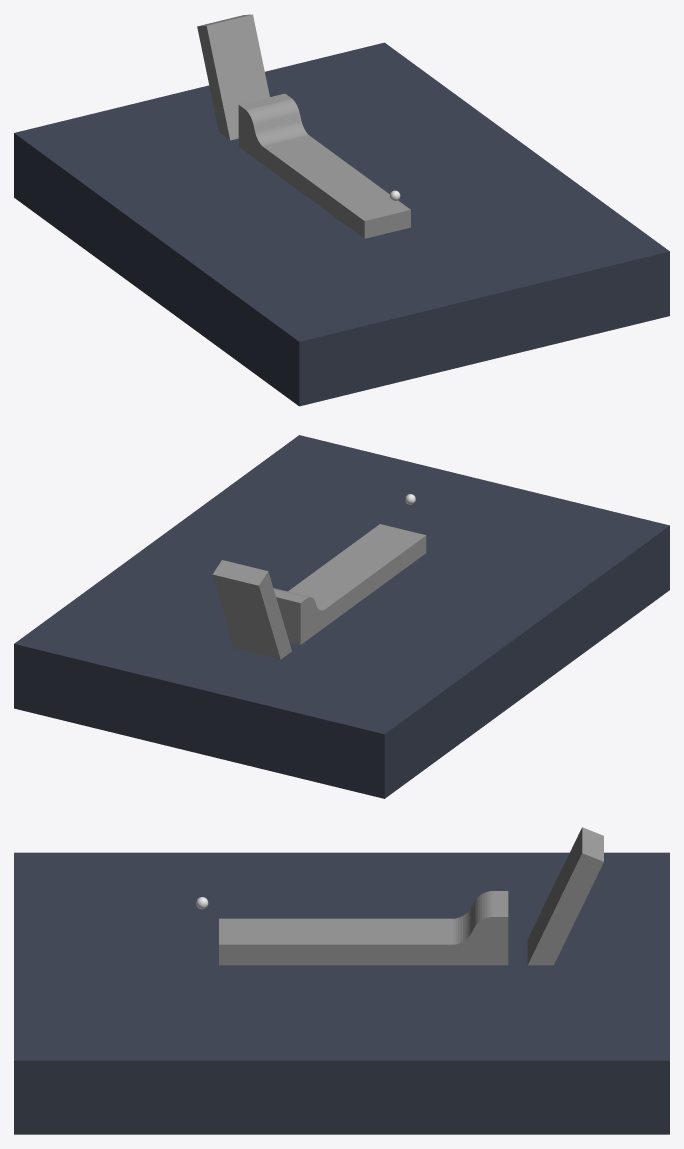
File: SkeeRamps3.glb
3 renders of one model, top to bottom at view 1: azimuth 30°, elevation 25°; view 2: azimuth 150°, elevation 25°; view 3: azimuth 270°, elevation 25°, orthographic. The views are drawn at different scales.
Parts seen in each view (by area): view 1: floor1, ramp1, rampback1; view 2: floor1, ramp1, rampback1; view 3: floor1, ramp1, rampback1.
Part boxes in pixels (x1,y1,x2,y2): floor1: [14, 42, 669, 406]; ramp1: [238, 93, 410, 238]; rampback1: [197, 14, 269, 140]; floor1: [14, 435, 669, 798]; ramp1: [273, 524, 426, 644]; rampback1: [212, 560, 291, 659]; floor1: [14, 852, 669, 1134]; ramp1: [219, 891, 508, 965]; rampback1: [527, 827, 603, 965].
Size of what is drawn, in the model's own units: 12 by 5.02 by 16.
